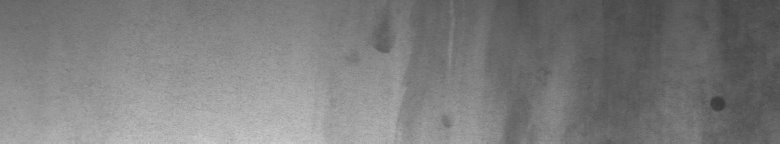fi: (702, 89, 730, 117)
